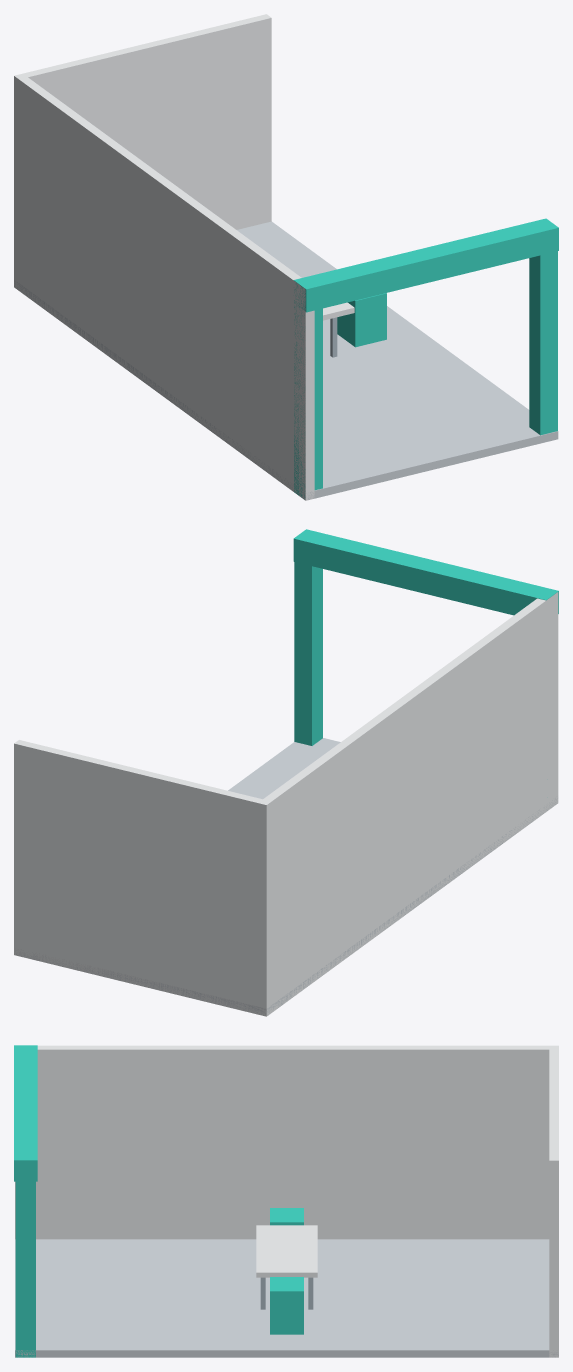
The picture shows the model from 3 angles, top to bottom: view 1: azimuth 30°, elevation 25°; view 2: azimuth 150°, elevation 25°; view 3: azimuth 270°, elevation 25°; orthographic projection. The views are drawn at different scales.
Parts seen in each view (by area): view 1: Exhibition Booth Concept; view 2: Exhibition Booth Concept; view 3: Exhibition Booth Concept.
Part boxes in pixels (left/top/right/bottom): Exhibition Booth Concept: left=14, top=14, right=558, bottom=500; Exhibition Booth Concept: left=14, top=529, right=558, bottom=1016; Exhibition Booth Concept: left=14, top=1045, right=558, bottom=1357.
Bounding box in the file's own units: 4 × 3.2 × 8.01.
